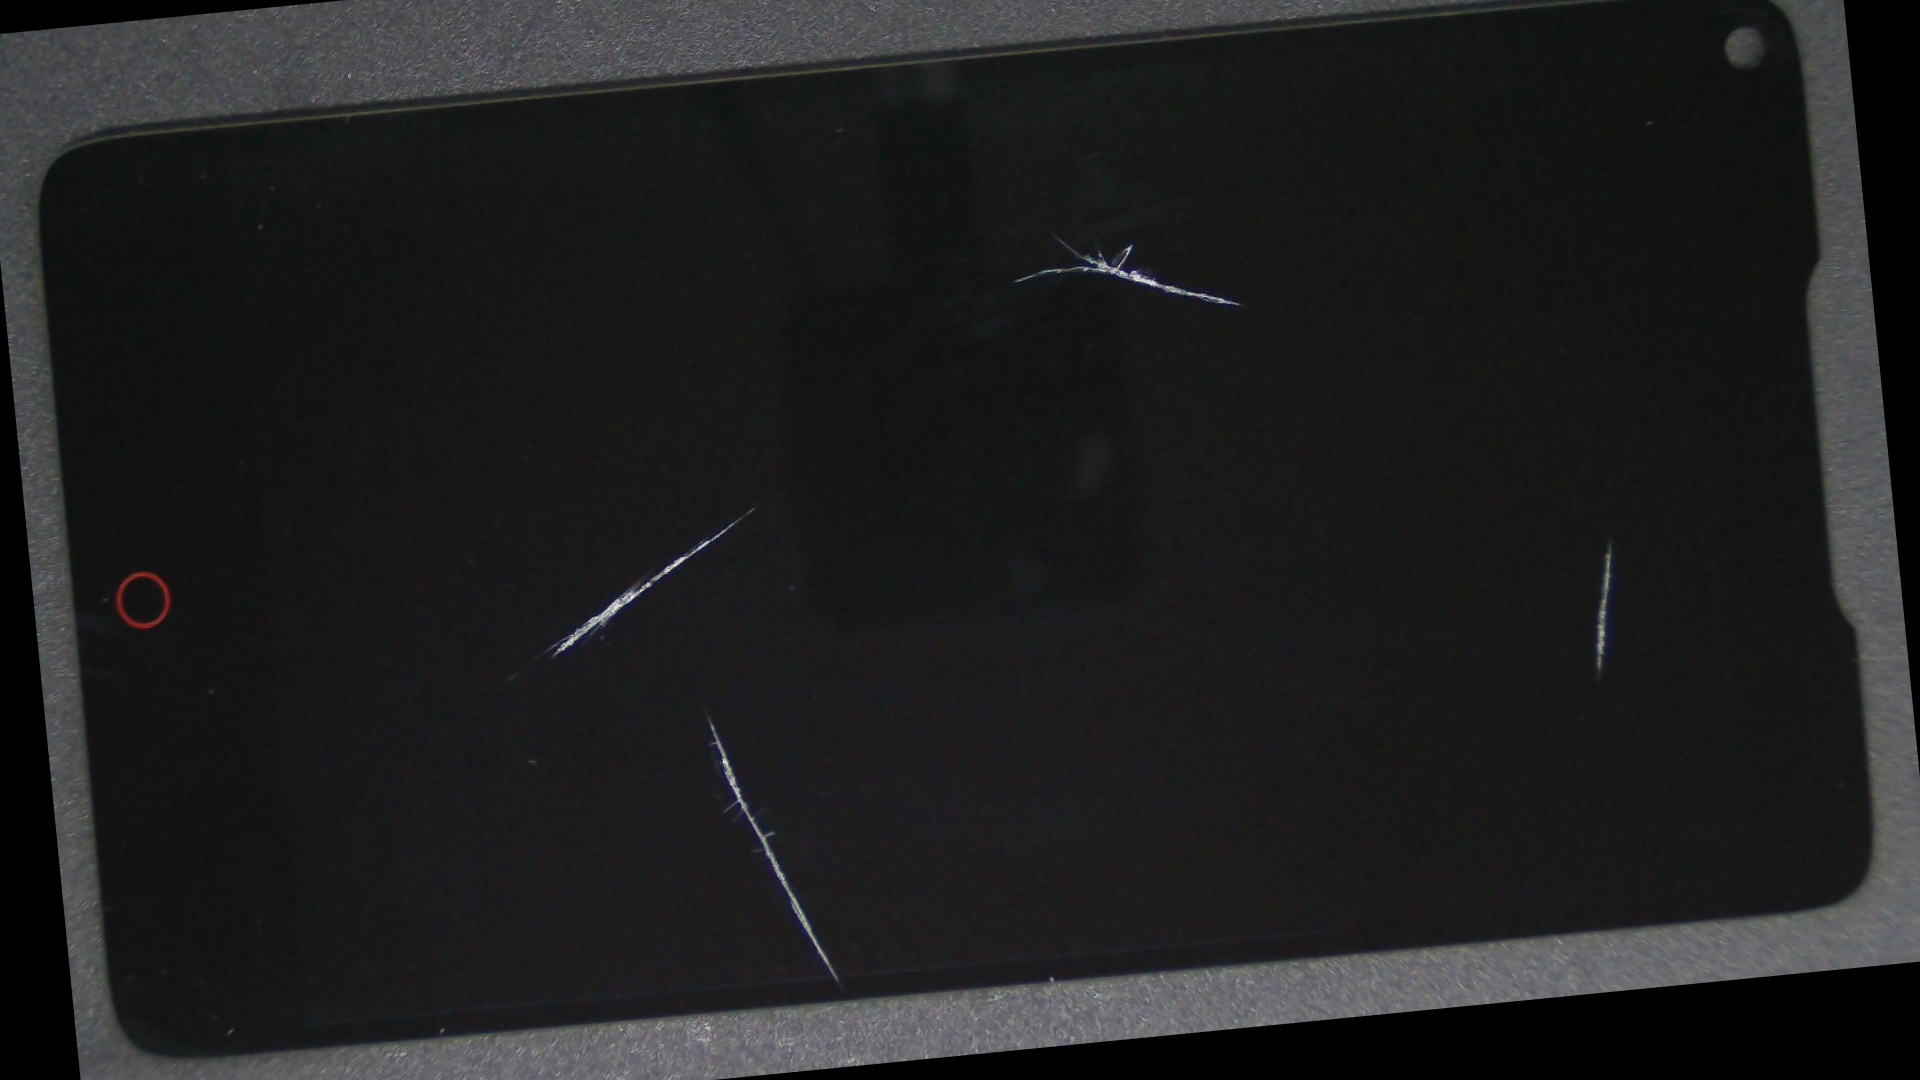oil: (793, 185, 1920, 952), (343, 310, 1069, 1080), (365, 200, 1139, 814), (518, 32, 1596, 436)
